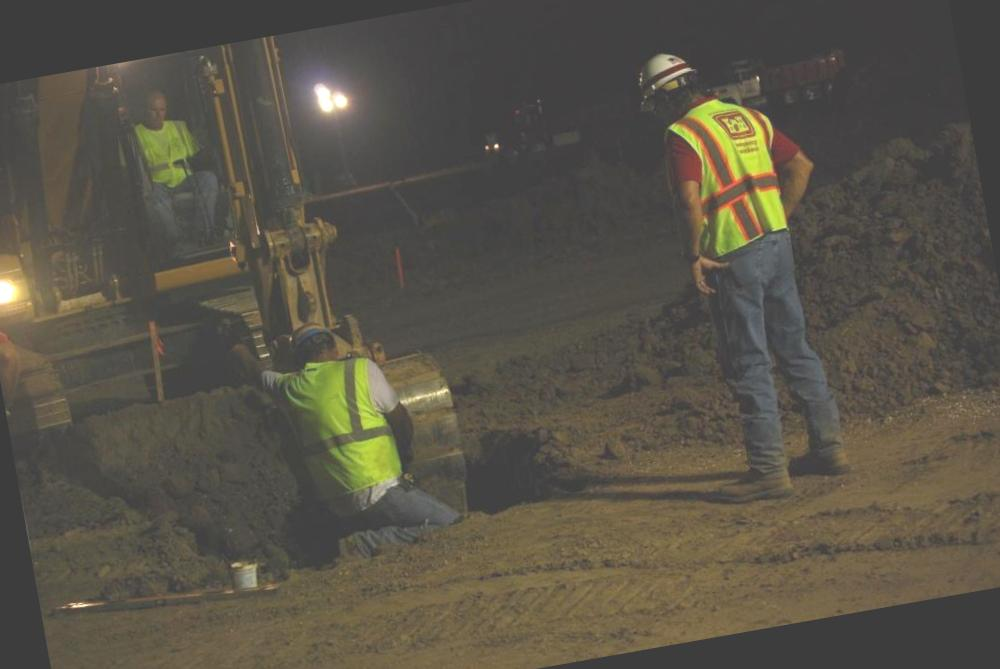person: (625, 26, 858, 510), (258, 300, 460, 554), (108, 78, 226, 278)
